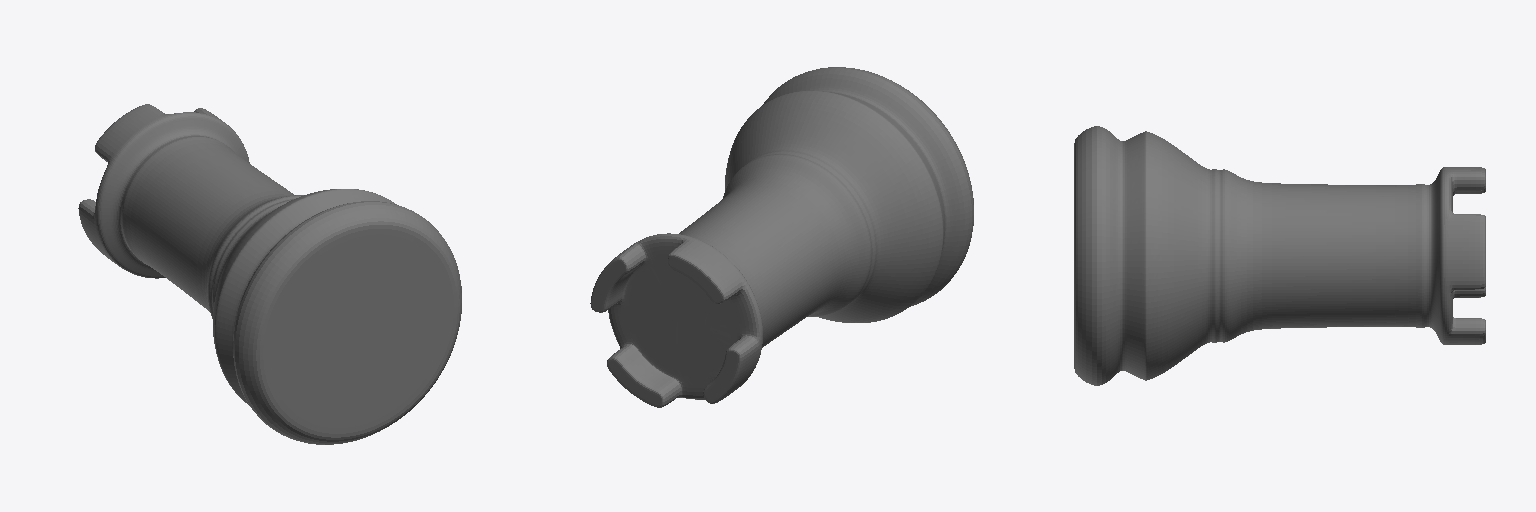
The model's file is rook.obj.
3 views of the same model, side by side, from view 1: azimuth 30°, elevation 25°; view 2: azimuth 150°, elevation 25°; view 3: azimuth 270°, elevation 25° (orthographic).
Parts seen in each view (by area): view 1: Circle.001_Circle.002; view 2: Circle.001_Circle.002; view 3: Circle.001_Circle.002.
Boxes of the visible parts, <box> form: Circle.001_Circle.002: <box>78,104,461,444</box>; Circle.001_Circle.002: <box>590,67,973,407</box>; Circle.001_Circle.002: <box>1074,126,1485,385</box>.
Bounding box in the file's own units: 0.0296 × 0.0296 × 0.0469.